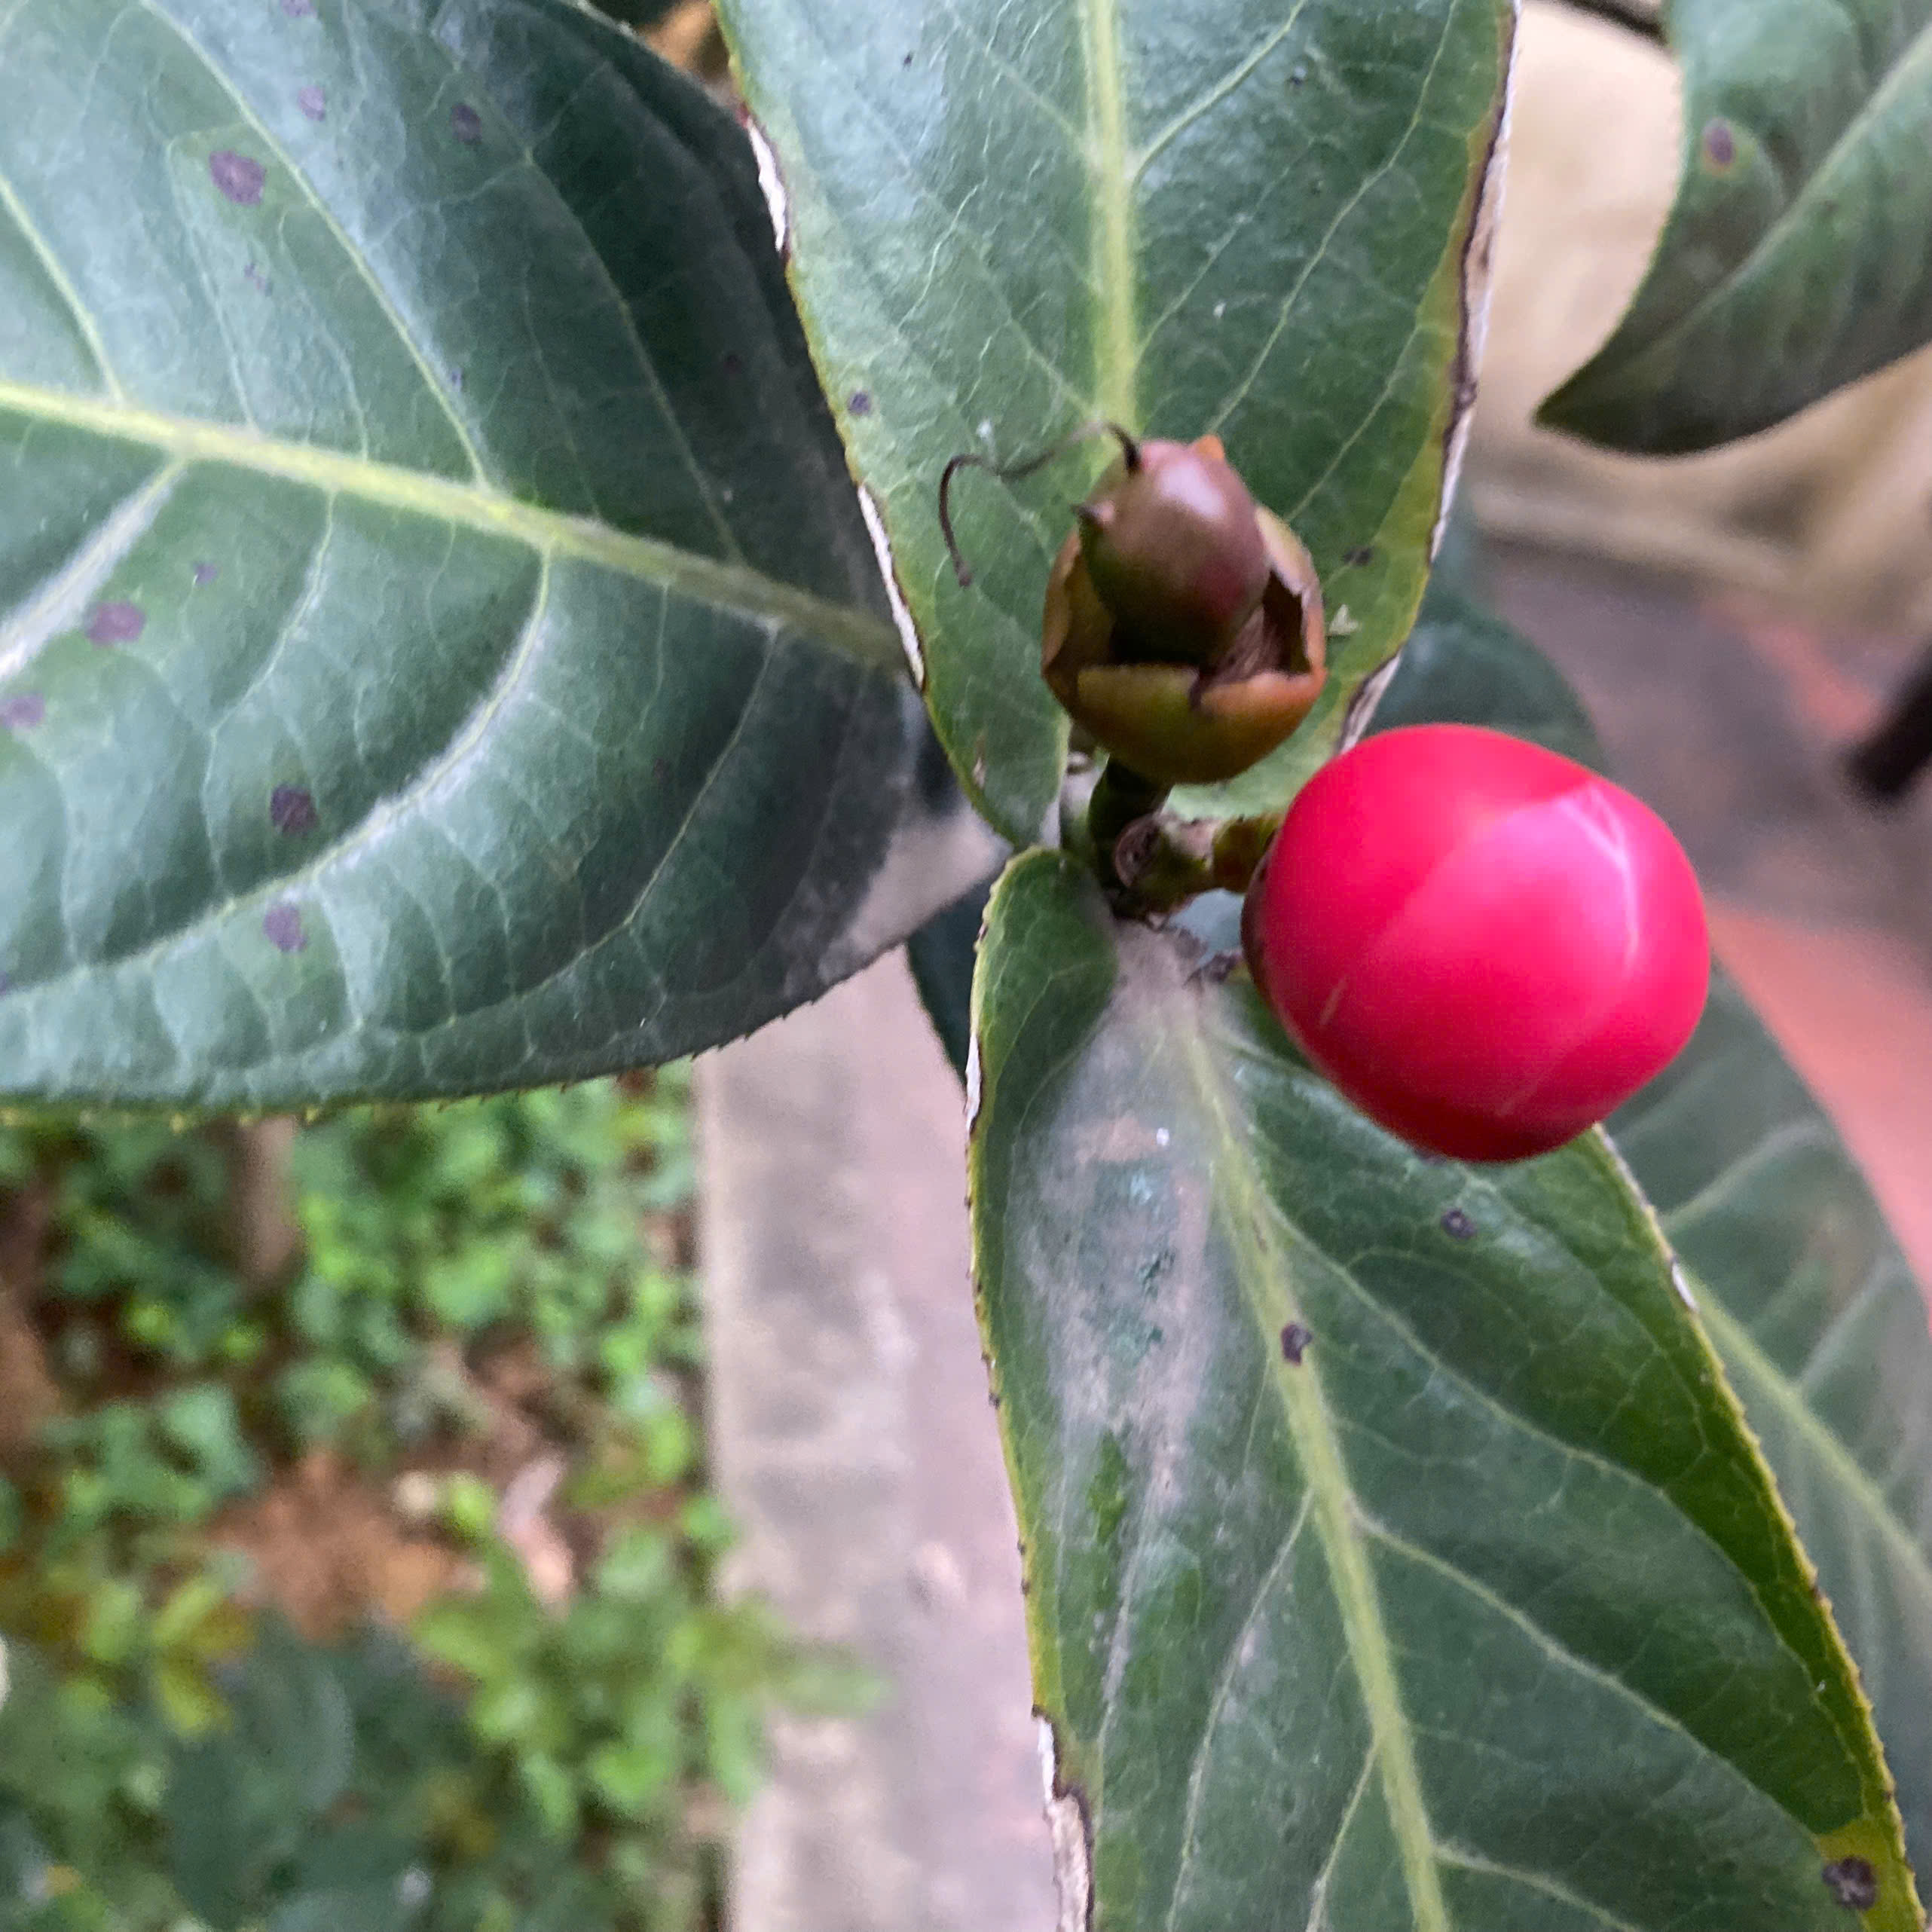hoa_hai_duong: (18, 16, 1920, 1932)
